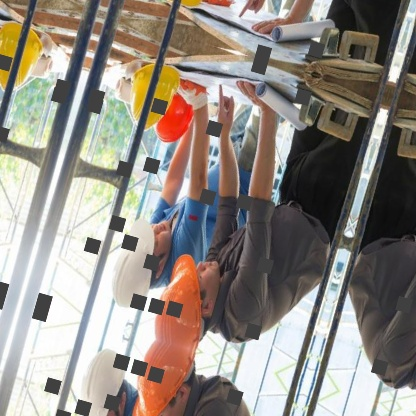white: (99, 211, 170, 323)
